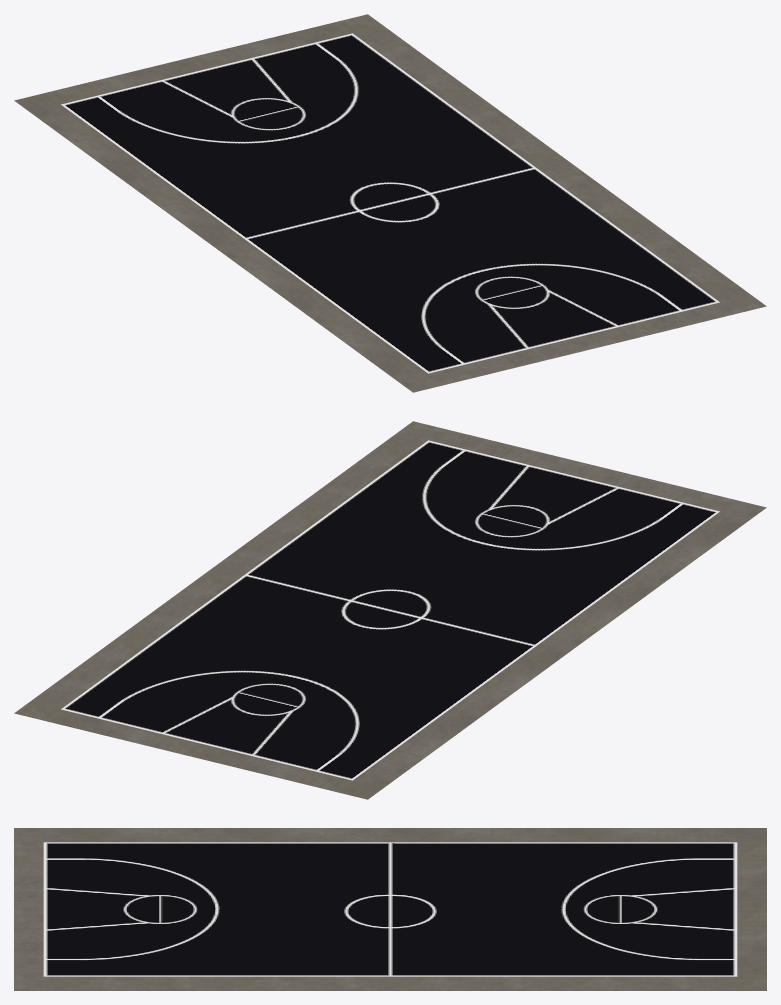
File: courtFloor.fbx
3 renders of one model, top to bottom at view 1: azimuth 30°, elevation 25°; view 2: azimuth 150°, elevation 25°; view 3: azimuth 270°, elevation 25°, orthographic. The views are drawn at different scales.
Parts seen in each view (by area): view 1: Plane.030; view 2: Plane.030; view 3: Plane.030.
Boxes of the visible parts, left/top/right/bottom form: Plane.030: left=14, top=14, right=766, bottom=392; Plane.030: left=14, top=421, right=766, bottom=799; Plane.030: left=14, top=828, right=766, bottom=990.
Bounding box in the file's own units: 1347 × 0.0153 × 2633.
